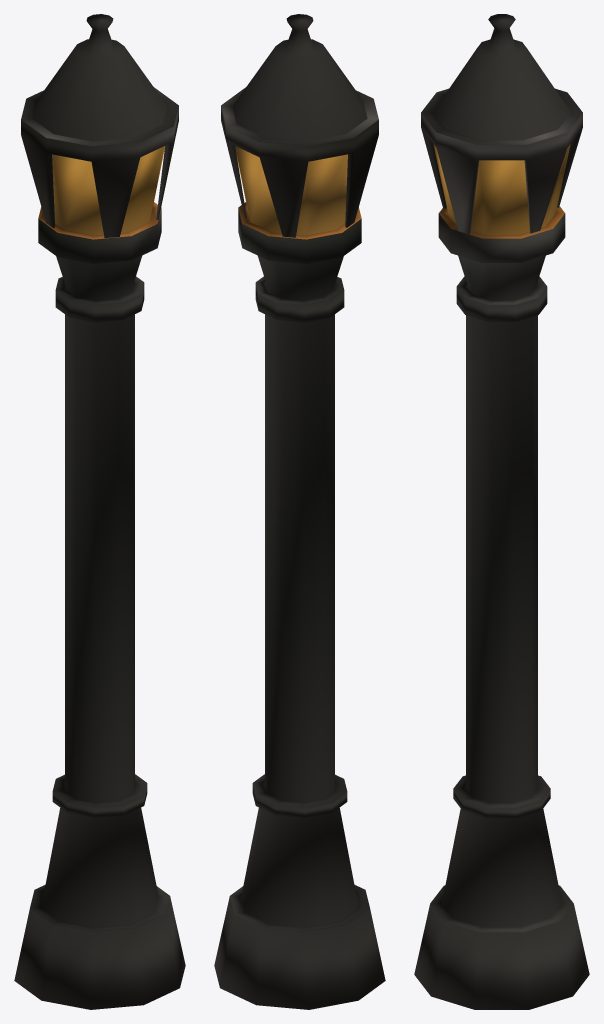
File: sokak lambası.fbx
3 views of the same model, side by side, from view 1: azimuth 30°, elevation 25°; view 2: azimuth 150°, elevation 25°; view 3: azimuth 270°, elevation 25° (orthographic).
Parts seen in each view (by area): view 1: İkosfer.002; view 2: İkosfer.002; view 3: İkosfer.002.
Boxes of the visible parts, left/top/right/bottom form: İkosfer.002: left=14, top=14, right=185, bottom=1009; İkosfer.002: left=214, top=14, right=385, bottom=1009; İkosfer.002: left=414, top=14, right=589, bottom=1009.
Size of the model in its own units: 58.86 by 372 by 61.89.
1 material, 1 textured.
